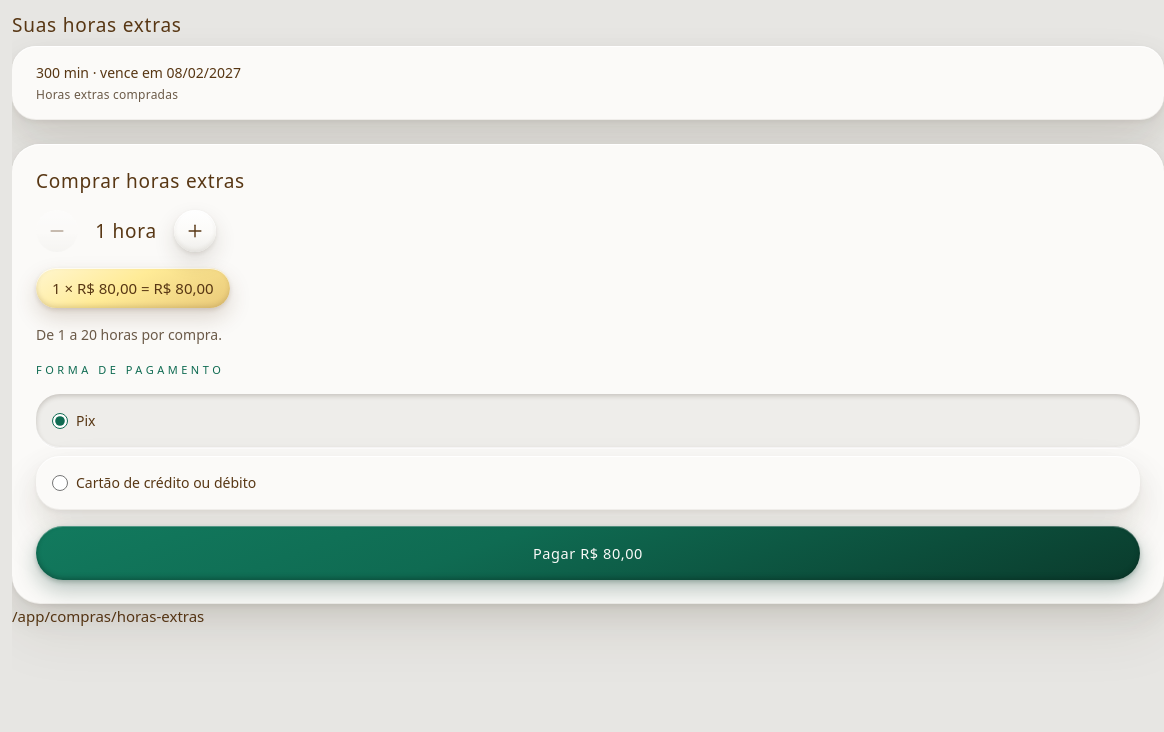
Test case: HorasExtrasPage (REC-62, REC-63, REC-69) › confirms the purchase when a new lot shows up
The width and height of the screenshot is (1164, 732).
Click the button "Pagar R$ 80,00" at (588, 553), box top-left (36, 526), bottom-right (1140, 580)
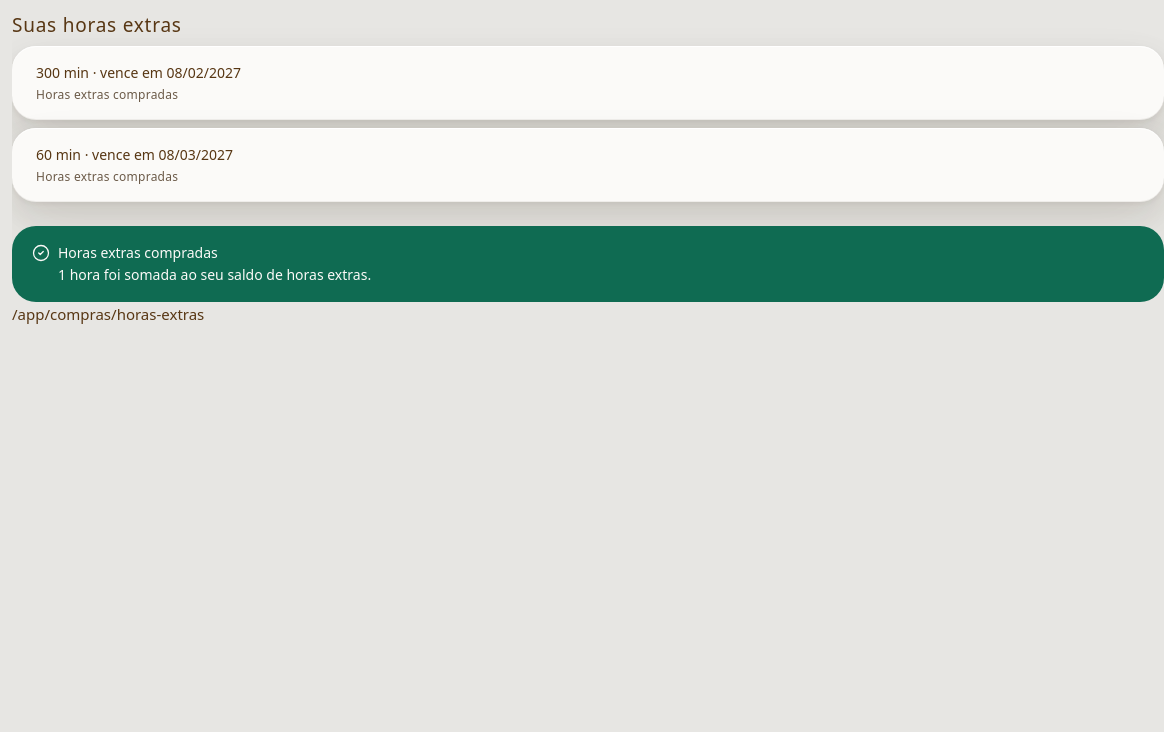
Now the 3rd text "Horas extras compradas" is shown, box top-left (58, 243), bottom-right (218, 262)
Now the text "1 hora foi somada ao seu saldo de horas extras." is shown, box top-left (58, 265), bottom-right (371, 284)
